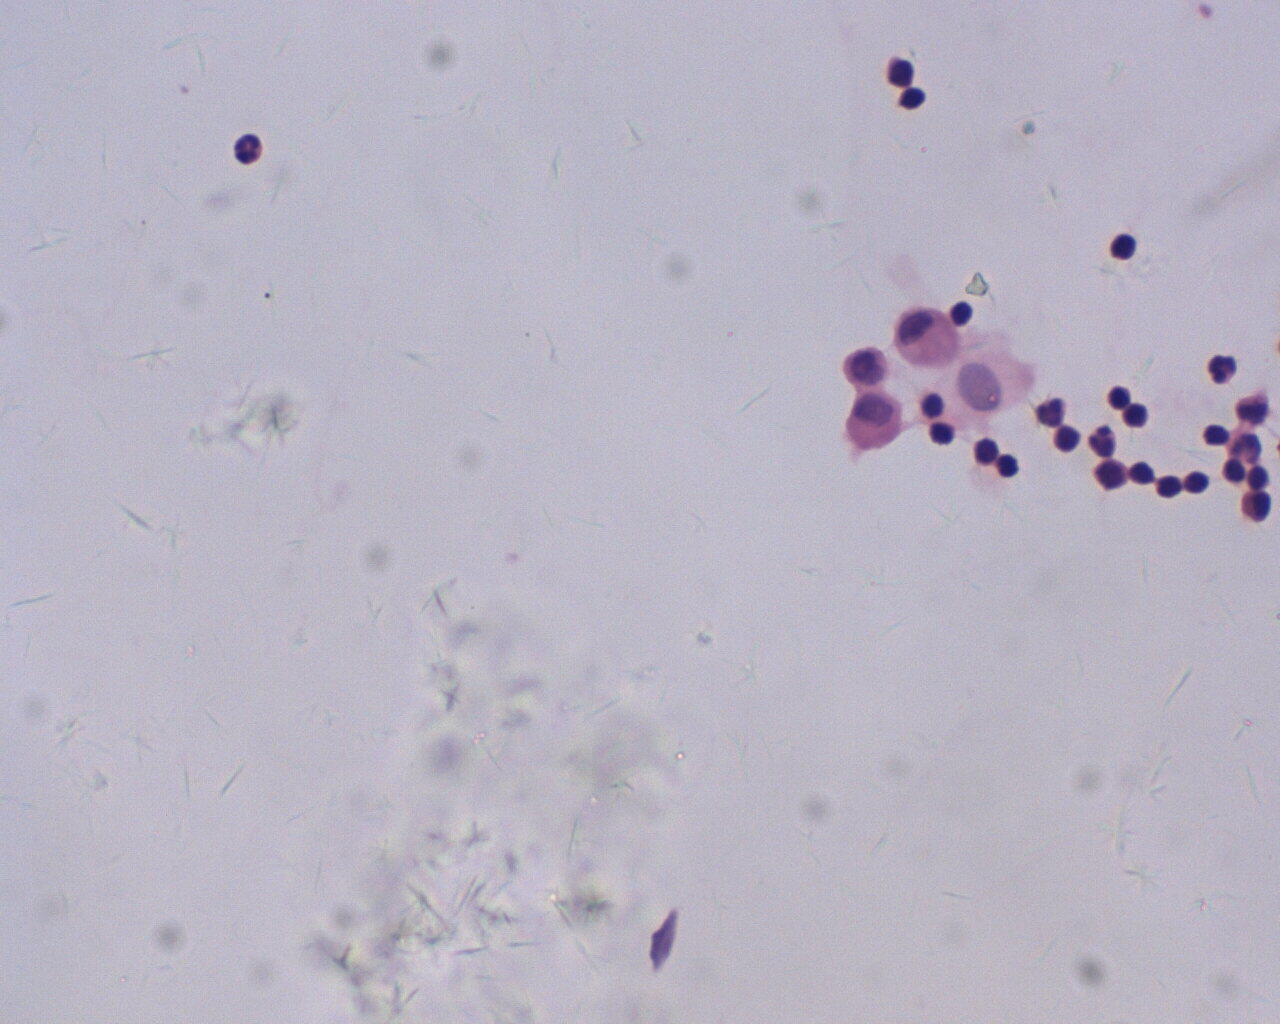lymph: (883, 49, 922, 88), (924, 418, 961, 453), (1106, 228, 1136, 262), (1182, 465, 1211, 498), (1049, 422, 1080, 451)
meso: (892, 305, 960, 368), (847, 388, 904, 453)
neutro: (233, 127, 267, 165), (1207, 350, 1236, 386)
